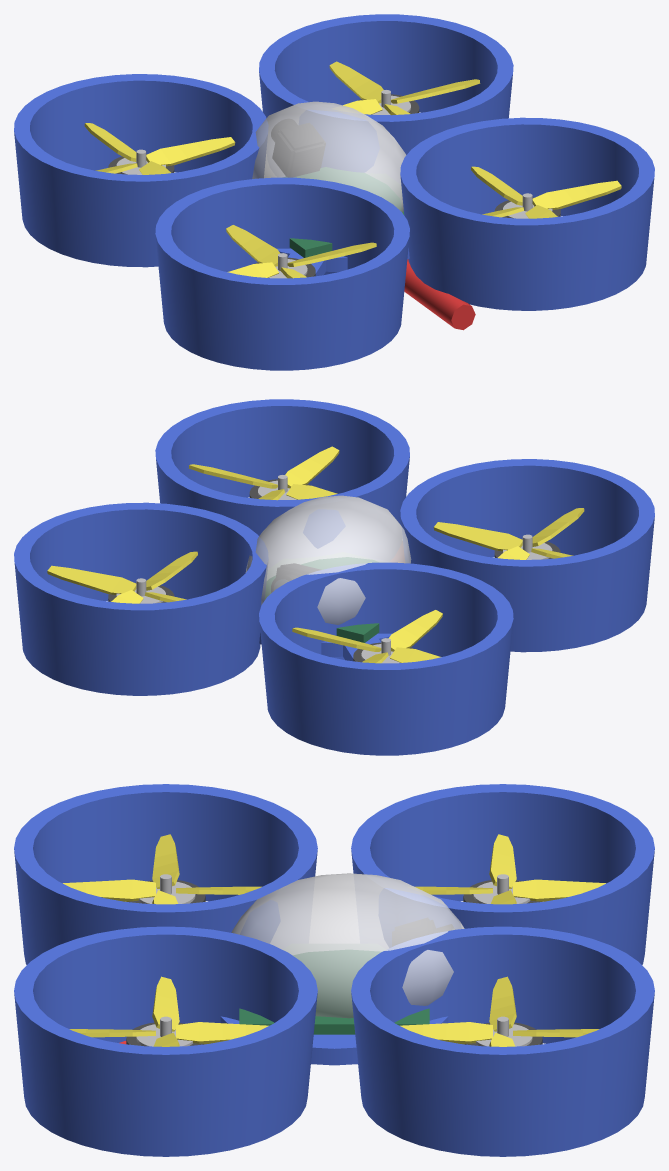
The model's file is whoop85.glb.
3 renders of one model, top to bottom at view 1: azimuth 30°, elevation 25°; view 2: azimuth 150°, elevation 25°; view 3: azimuth 270°, elevation 25°, orthographic. The views are drawn at different scales.
Parts seen in each view (by area): view 1: body, prop_RR, prop_FL, fpv_cam, prop_RL, prop_FR; view 2: body, prop_FR, prop_RL, prop_RR, prop_FL, fpv_cam; view 3: body, prop_RL, prop_RR, prop_FR, prop_FL, fpv_cam.
Part boxes in pixels (bbox=[...]): body: bbox=[14, 14, 654, 370]; prop_RR: bbox=[471, 166, 621, 218]; prop_FL: bbox=[84, 123, 235, 174]; fpv_cam: bbox=[271, 119, 325, 177]; prop_RL: bbox=[226, 225, 376, 278]; prop_FR: bbox=[329, 61, 480, 115]; body: bbox=[14, 399, 654, 755]; prop_FR: bbox=[47, 551, 197, 603]; prop_RL: bbox=[433, 508, 584, 559]; prop_RR: bbox=[188, 446, 339, 500]; prop_FL: bbox=[292, 610, 442, 663]; fpv_cam: bbox=[271, 563, 319, 592]; body: bbox=[14, 784, 654, 1156]; prop_RL: bbox=[63, 834, 261, 904]; prop_RR: bbox=[69, 976, 268, 1046]; prop_FR: bbox=[400, 976, 599, 1046]; prop_FL: bbox=[415, 834, 605, 904]; fpv_cam: bbox=[392, 918, 454, 946].
Size of the model in its own units: 0.1141 by 0.034 by 0.1141.
